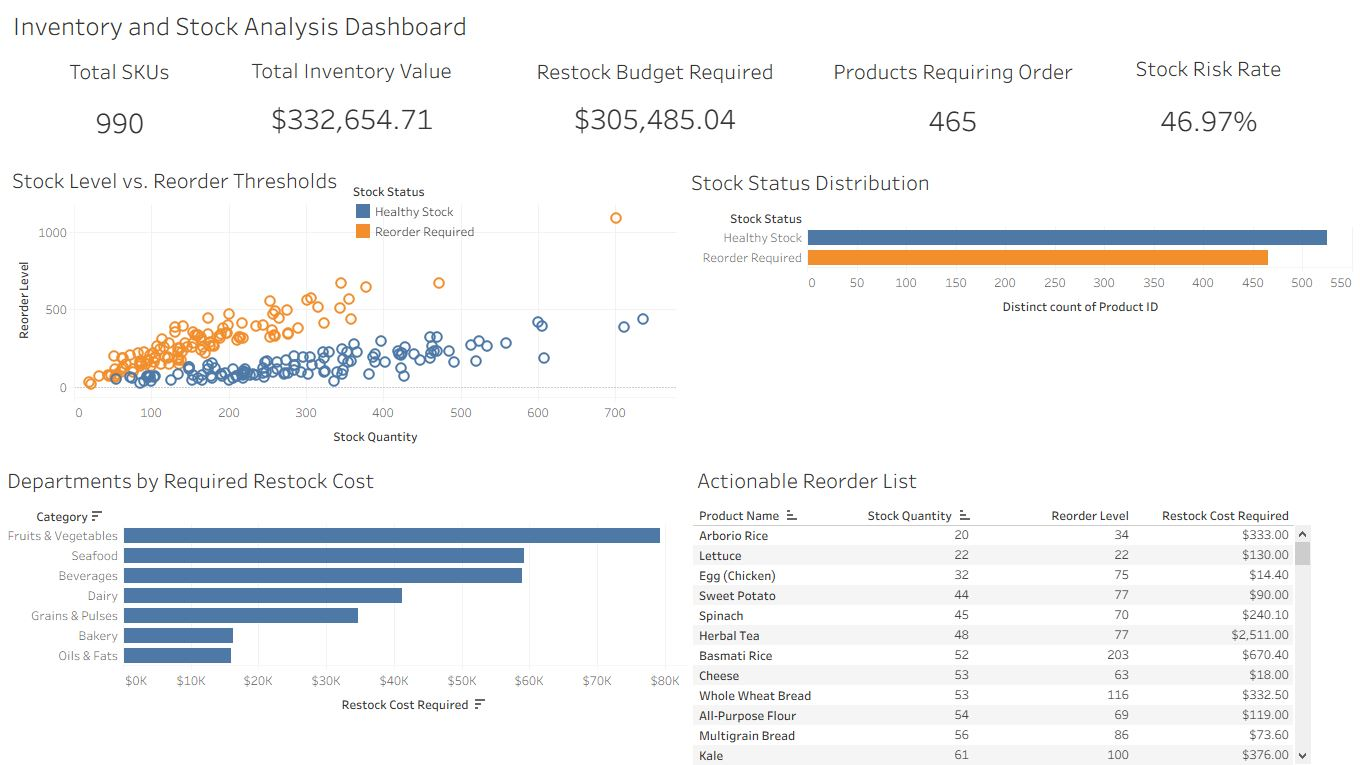

The dashboard page shown, as its layout file describes it:
{"tool":"tableau","page":{"name":"Inventory and Stock Analysis Dashboard","canvas":[1366,768],"ordinal":0},"visuals":[{"type":"title","box":[8,8,1350,42]},{"type":"worksheet","title":"Stock Risk Rate","mark":"Automatic","box":[1075,53,271,99]},{"type":"worksheet","title":"Total Inventory Value","mark":"Automatic","box":[234,55,239,90]},{"type":"worksheet","title":"Total SKUs","mark":"Automatic","box":[17,56,209,96]},{"type":"worksheet","title":"Restock Budget Required","mark":"Automatic","box":[517,56,280,89]},{"type":"worksheet","title":"Products Requiring Order","mark":"Automatic","box":[828,56,254,92]},{"type":"worksheet","title":"Stock Level vs. Reorder Thresholds","mark":"Automatic","rows":["Reorder_Level"],"cols":["Stock_Quantity"],"box":[10,165,669,290]},{"type":"worksheet","title":"Stock Status Distribution","mark":"Automatic","rows":["Stock_Status"],"cols":["Product_ID"],"box":[689,167,667,288]},{"type":"legend","title":"Stock Level vs. Reorder Thresholds","param":"[federated.0yxs0p71o8xgoi17v2zc915pjfr1].[none:Stock_Status:nk]","box":[355,186,140,58]},{"type":"worksheet","title":"Departments by Required Restock Cost","mark":"Automatic","rows":["Category"],"cols":["Restock_Cost_Required"],"box":[5,465,684,303]},{"type":"worksheet","title":"Actionable Reorder List","mark":"Automatic","rows":["Product_Name"],"box":[695,465,665,303]}]}

Visuals, with their boxes in screenshot pixels (x1, y1, x2, y2), scaled from the page's 1366x768 canvas onto the 1360x765 screenshot:
title: <box>8,8,1352,50</box>
"Stock Risk Rate" worksheet: <box>1070,53,1340,151</box>
"Total Inventory Value" worksheet: <box>233,55,471,144</box>
"Total SKUs" worksheet: <box>17,56,225,151</box>
"Restock Budget Required" worksheet: <box>515,56,793,144</box>
"Products Requiring Order" worksheet: <box>824,56,1077,147</box>
"Stock Level vs. Reorder Thresholds" worksheet: <box>10,164,676,453</box>
"Stock Status Distribution" worksheet: <box>686,166,1350,453</box>
"Stock Level vs. Reorder Thresholds" legend: <box>353,185,493,243</box>
"Departments by Required Restock Cost" worksheet: <box>5,463,686,764</box>
"Actionable Reorder List" worksheet: <box>692,463,1354,764</box>
